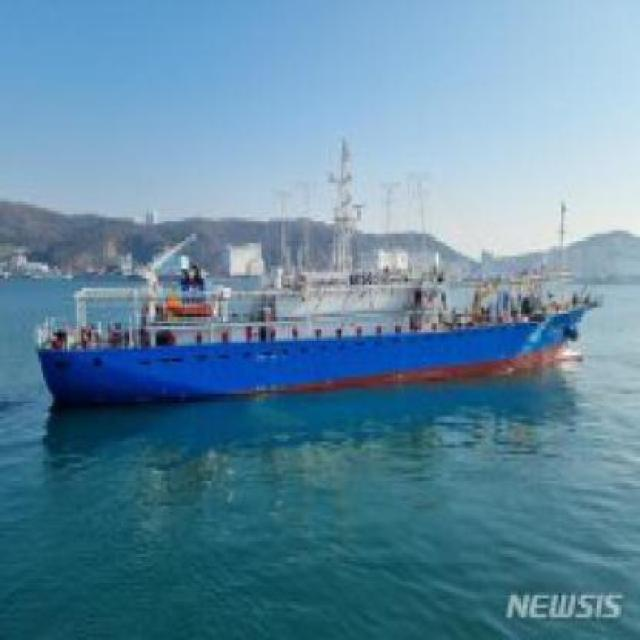fish-b: (27, 132, 627, 427)
